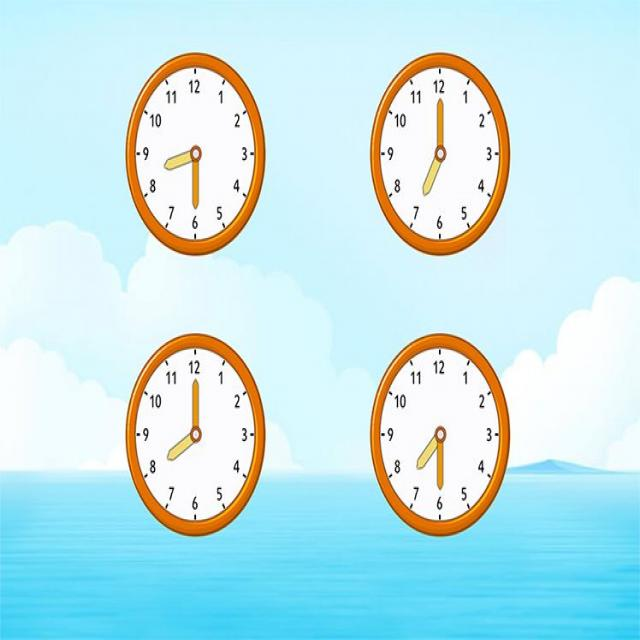clock: (62, 67, 530, 555)
